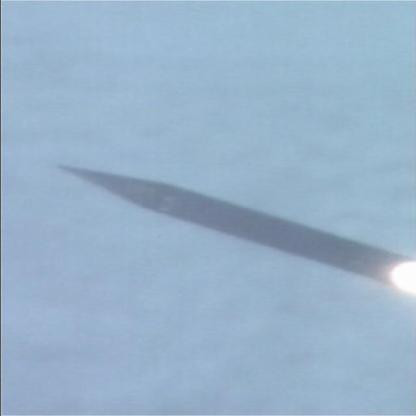MIL_TBM: (43, 148, 416, 307)
